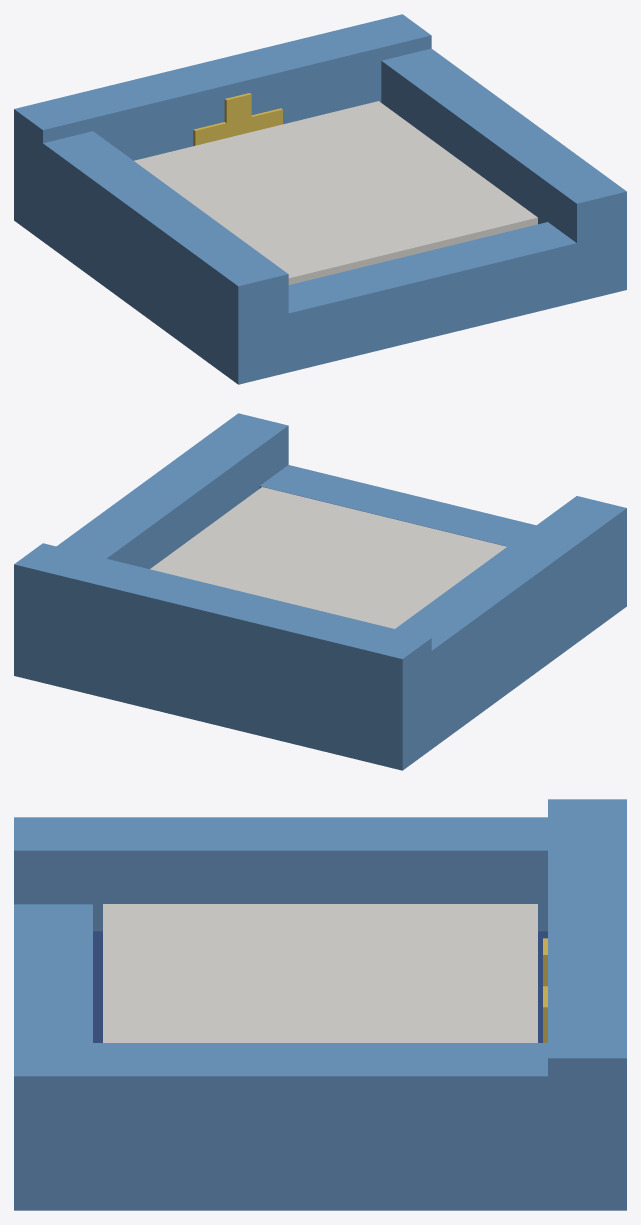
File: ncb-pet-bed-blue.glb
3 renders of one model, top to bottom at view 1: azimuth 30°, elevation 25°; view 2: azimuth 150°, elevation 25°; view 3: azimuth 270°, elevation 25°, orthographic. The views are drawn at different scales.
Visible parts, largest first — view 1: box-prop; view 2: box-prop; view 3: box-prop.
Boxes of the visible parts, bbox=[...] form: box-prop: bbox=[14, 14, 626, 384]; box-prop: bbox=[14, 413, 626, 770]; box-prop: bbox=[14, 799, 626, 1210].
Bounding box in the file's own units: 1.24 × 0.34 × 1.24.
